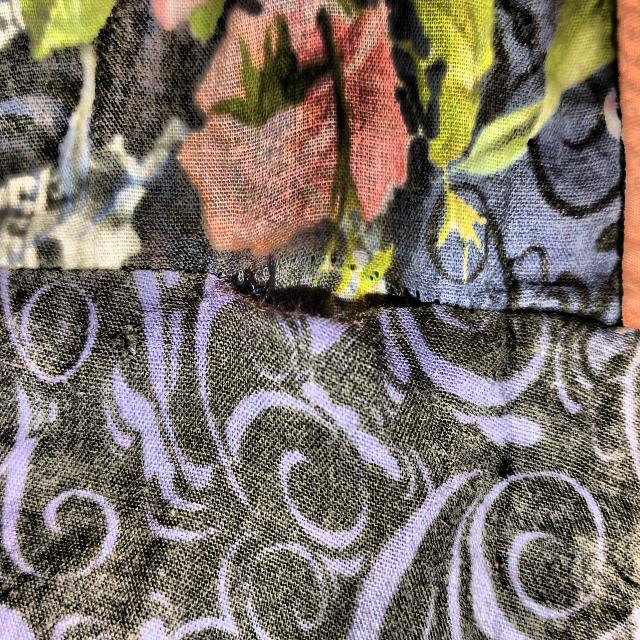seam: (204, 196, 488, 372)
